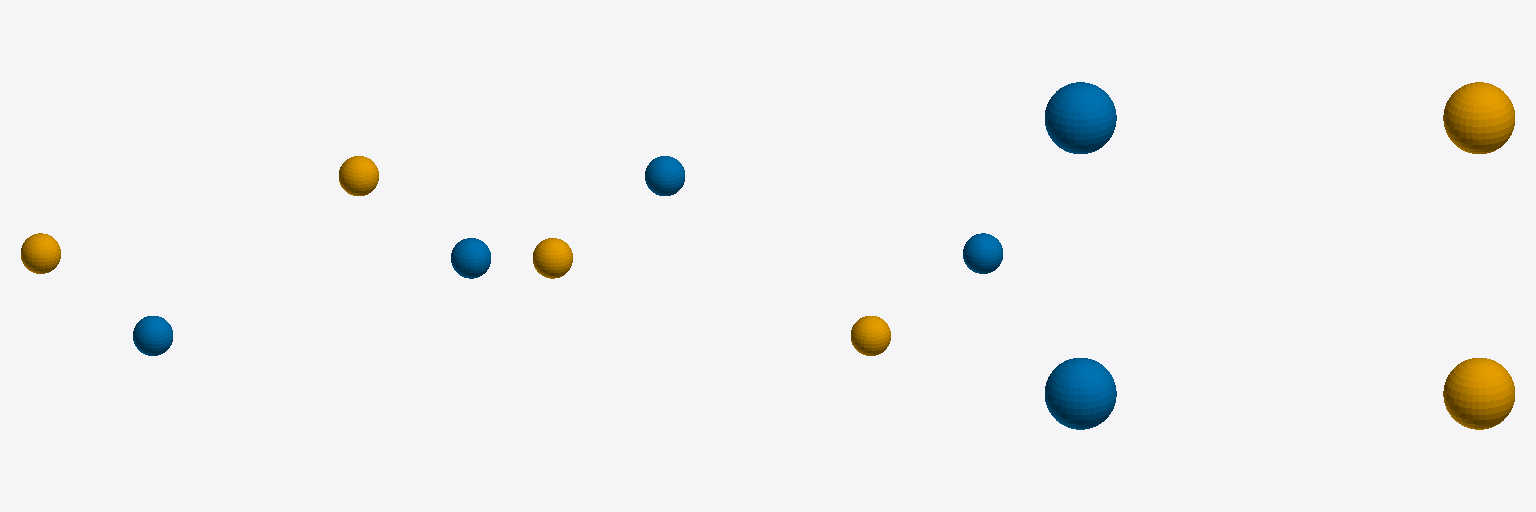
The robot description file, URDF, robot "Hound_description":
<?xml version="1.0" ?>
<!-- =================================================================================== -->
<!-- |    This document was autogenerated by xacro from robot.xacro                    | -->
<!-- |    EDITING THIS FILE BY HAND IS NOT RECOMMENDED                                 | -->
<!-- =================================================================================== -->
<robot name="Hound_description" xmlns:xacro="http://www.ros.org/wiki/xacro">
  <material name="black">
    <color rgba="0.0 0.0 0.0 1.0"/>
  </material>
  <material name="blue">
    <color rgba="0.0 0.0 0.8 1.0"/>
  </material>
  <material name="green">
    <color rgba="0.0 0.8 0.0 1.0"/>
  </material>
  <material name="grey">
    <color rgba="0.2 0.2 0.2 1.0"/>
  </material>
  <material name="silver">
    <color rgba="0.913725490196 0.913725490196 0.847058823529 1.0"/>
  </material>
  <material name="orange">
    <color rgba="1.0 0.423529411765 0.0392156862745 1.0"/>
  </material>
  <material name="brown">
    <color rgba="0.870588235294 0.811764705882 0.764705882353 1.0"/>
  </material>
  <material name="red">
    <color rgba="0.8 0.0 0.0 1.0"/>
  </material>
  <material name="white">
    <color rgba="1.0 1.0 1.0 1.0"/>
  </material>

  <link name="trunk">
    <visual>
      <origin rpy="0 0 0" xyz="0 0 0"/>
      <geometry>
        <mesh filename="base__.dae" scale="1 1 1"/>
      </geometry>
      <material name="silver"/>
    </visual>
    <collision>
      <origin rpy="0 0 0" xyz="0 0 0"/>
      <geometry>
	<!--<box size="0.562 0.335 0.14"/>-->
        <box size="0.562 0.185 0.08"/>
      </geometry>
    </collision>
    <inertial>
      <origin rpy="0 0 0" xyz="0.000717 0.003624 -0.005225"/>
      <mass value="18.75"/>
      <inertia ixx="0.215345" ixy="0.000728" ixz="0.001358" iyy="0.833672" iyz="0.000129" izz="0.984279"/>
    </inertial>
  </link>


  <joint name="RR_roll_joint" type="revolute">
    <origin rpy="0 0 0" xyz="-0.349 -0.100 0.000"/>
    <parent link="trunk"/>
    <child link="RR_shoulder"/>
    <axis xyz="1 0 0"/>
    <!--dynamics rotor_inertia="0.01398664" damping="0" friction="0"/-->
    <limit effort="200" lower="-1.48352986419518" upper="1.48352986419518" velocity="21.29"/>
  </joint>
  <link name="RR_shoulder">
    <visual>
      <origin rpy="0 0 0" xyz="0 0 0"/>
      <geometry>
        <mesh filename="shoulder_mirror__.dae" scale="1 1 1"/>
      </geometry>
      <material name="grey"/>
    </visual>
    <collision>
      <origin rpy="1.57079632679 0 0" xyz="0 -0.0125 0"/>
      <geometry>
        <cylinder length="0.133" radius="0.0605"/>
      </geometry>
    </collision>
    <inertial>
      <origin rpy="0 0 0" xyz="-0.00426027 -0.01325422 0.00000918"/>
      <mass value="4.2947"/>
      <inertia ixx="0.00932019" ixy="-0.00003601" ixz="-0.00000533" iyy="0.00773259" iyz="-0.00001700" izz="0.01043512"/>
    </inertial>
  </link>
  <joint name="RR_hip_joint" type="revolute">
    <origin rpy="0 0 0" xyz="0 -0.1135 0"/>
    <parent link="RR_shoulder"/>
    <child link="RR_thigh"/>
    <axis xyz="0 1 0"/>
    <!--dynamics rotor_inertia="0.05581304" damping="0" friction="0"/-->
    <limit effort="200" lower="-6.28318530718" upper="6.28318530718" velocity="21.29"/>
  </joint>
  <link name="RR_thigh">
    <visual>
      <origin rpy="0 0 0" xyz="0 0 0"/>
      <geometry>
        <mesh filename="thigh_mirror__.dae" scale="1 1 1"/>
      </geometry>
      <material name="grey"/>
    </visual>
    <collision>
      <origin rpy="0 0 0" xyz="0 0 -0.16395"/>
      <geometry>
        <box size="0.078 0.069 0.34"/>
      </geometry>
    </collision>
    <inertial>
      <origin rpy="0 0 0" xyz="0.01353461 0.01879181 -0.09638993"/>
      <mass value="1.6351"/>
      <inertia ixx="0.02365733" ixy="-0.00036775" ixz="-0.00293293" iyy="0.02323490" iyz="0.00261899" izz="0.00318143"/>
    </inertial>
  </link>
  <joint name="RR_knee_joint" type="revolute">
    <origin rpy="0 0 0" xyz="0 0 -0.3279"/>
    <parent link="RR_thigh"/>
    <child link="RR_calf"/>
    <axis xyz="0 1 0"/>
    <!--dynamics rotor_inertia="0.0561" damping="0" friction="0"/-->
    <limit effort="400" lower="-2.7925268" upper="2.7925268" velocity="9.7"/>
  </joint>
  <link name="RR_calf">
    <visual>
      <origin rpy="0 0 0" xyz="0 0 0"/>
      <geometry>
        <mesh filename="calf__.dae" scale="1 1 1"/>
      </geometry>
      <material name="silver"/>
    </visual>
    <collision>
      <origin rpy="0 0 0" xyz="0 0 -0.175"/>
      <geometry>
        <box size="0.032 0.032 0.35"/>
      </geometry>
    </collision>
    <inertial>
      <origin rpy="0 0 0" xyz="0.00000000 -0.00007139 -0.12613433"/>
      <mass value="0.7377"/>
      <inertia ixx="0.01354125" ixy="-0.00000000" ixz="-0.00000058" iyy="0.01354008" iyz="-0.00000573" izz="0.00042390"/>
    </inertial>
  </link>
  <joint name="RR_foot_fixed" type="fixed">
    <origin rpy="0 0 0" xyz="0 0 -0.35"/>
    <parent link="RR_calf"/>
    <child link="RR_foot"/>
  </joint>
  <link name="RR_foot">
    <visual>
      <origin rpy="0 0 0" xyz="0 0 0"/>
      <geometry>
        <sphere radius="0.03875"/>
      </geometry>
    </visual>
    <collision>
      <origin rpy="0 0 0" xyz="0 0 0"/>
      <geometry>
        <sphere radius="0.000001"/>
      </geometry>
    </collision>
  </link>

	
  <joint name="RL_roll_joint" type="revolute">
    <origin rpy="0 0 0" xyz="-0.349 0.100 0.000"/>
    <parent link="trunk"/>
    <child link="RL_shoulder"/>
    <axis xyz="1 0 0"/>
    <!--dynamics rotor_inertia="0.01398664" damping="0" friction="0"/-->
    <limit effort="200" lower="-1.48352986419518" upper="1.48352986419518" velocity="21.29"/>
  </joint>
  <link name="RL_shoulder">
    <visual>
      <origin rpy="0 0 0" xyz="0 0 0"/>
      <geometry>
        <mesh filename="shoulder__.dae" scale="1 1 1"/>
      </geometry>
      <material name="grey"/>
    </visual>
    <collision>
      <origin rpy="1.57079632679 0 0" xyz="0 0.0125 0"/>
      <geometry>
        <cylinder length="0.133" radius="0.0605"/>
      </geometry>
    </collision>
    <inertial>
      <origin rpy="0 0 0" xyz="-0.00426027 0.01325422 0.00000918"/>
      <mass value="4.2947"/>
      <inertia ixx="0.00932019" ixy="0.00003601" ixz="-0.00000533" iyy="0.00773259" iyz="0.00001700" izz="0.01043512"/>
    </inertial>
  </link>
  <joint name="RL_hip_joint" type="revolute">
    <origin rpy="0 0 0" xyz="0 0.1135 0"/>
    <parent link="RL_shoulder"/>
    <child link="RL_thigh"/>
    <axis xyz="0 1 0"/>
    <!--dynamics rotor_inertia="0.05581304" damping="0" friction="0"/-->
    <limit effort="200" lower="-6.28318530718" upper="6.28318530718" velocity="21.29"/>
  </joint>
  <link name="RL_thigh">
    <visual>
      <origin rpy="0 0 0" xyz="0 0 0"/>
      <geometry>
        <mesh filename="thigh__.dae" scale="1 1 1"/>
      </geometry>
      <material name="grey"/>
    </visual>
    <collision>
      <origin rpy="0 0 0" xyz="0 0 -0.16395"/>
      <geometry>
        <box size="0.078 0.069 0.34"/>
      </geometry>
    </collision>
    <inertial>
      <origin rpy="0 0 0" xyz="0.01353461 -0.01879181 -0.09638993"/>
      <mass value="1.6351"/>
      <inertia ixx="0.02365733" ixy="0.00036775" ixz="-0.00293293" iyy="0.02323490" iyz="-0.00261899" izz="0.00318143"/>
    </inertial>
  </link>
  <joint name="RL_knee_joint" type="revolute">
    <origin rpy="0 0 0" xyz="0 0 -0.3279"/>
    <parent link="RL_thigh"/>
    <child link="RL_calf"/>
    <axis xyz="0 1 0"/>
    <!--dynamics rotor_inertia="0.0561" damping="0" friction="0"/-->
    <limit effort="400" lower="-2.7925268" upper="2.7925268" velocity="9.7"/>
  </joint>
  <link name="RL_calf">
    <visual>
      <origin rpy="0 0 0" xyz="0 0 0"/>
      <geometry>
        <mesh filename="calf__.dae" scale="1 1 1"/>
      </geometry>
      <material name="silver"/>
    </visual>
    <collision>
      <origin rpy="0 0 0" xyz="0 0 -0.175"/>
      <geometry>
        <box size="0.032 0.032 0.35"/>
      </geometry>
    </collision>
    <inertial>
      <origin rpy="0 0 0" xyz="0.00000000 0.00007139 -0.12613433"/>
      <mass value="0.7377"/>
      <inertia ixx="0.01354125" ixy="0.00000000" ixz="-0.00000058" iyy="0.01354008" iyz="0.00000573" izz="0.00042390"/>
    </inertial>
  </link>
  <joint name="RL_foot_fixed" type="fixed">
    <origin rpy="0 0 0" xyz="0 0 -0.35"/>
    <parent link="RL_calf"/>
    <child link="RL_foot"/>
  </joint>
  <link name="RL_foot">
    <visual>
      <origin rpy="0 0 0" xyz="0 0 0"/>
      <geometry>
        <sphere radius="0.03875"/>
      </geometry>
    </visual>
    <collision>
      <origin rpy="0 0 0" xyz="0 0 0"/>
      <geometry>
        <sphere radius="0.000001"/>
      </geometry>
    </collision>
  </link>


  <joint name="FR_roll_joint" type="revolute">
    <origin rpy="0 0 0" xyz="0.349 -0.100 0.000"/>
    <parent link="trunk"/>
    <child link="FR_shoulder"/>
    <axis xyz="1 0 0"/>
    <!--dynamics rotor_inertia="0.01398664" damping="0" friction="0"/-->
    <limit effort="200" lower="-1.48352986419518" upper="1.48352986419518" velocity="21.29"/>
  </joint>
  <link name="FR_shoulder">
    <visual>
      <origin rpy="0 0 0" xyz="0 0 0"/>
      <geometry>
        <mesh filename="shoulder_mirror__.dae" scale="1 1 1"/>
      </geometry>
      <material name="grey"/>
    </visual>
    <collision>
      <origin rpy="1.57079632679 0 0" xyz="0 -0.0125 0"/>
      <geometry>
        <cylinder length="0.133" radius="0.0605"/>
      </geometry>
    </collision>
    <inertial>
      <origin rpy="0 0 0" xyz="-0.00426027 -0.01325422 0.00000918"/>
      <mass value="4.2947"/>
      <inertia ixx="0.00932019" ixy="-0.00003601" ixz="-0.00000533" iyy="0.00773259" iyz="-0.00001700" izz="0.01043512"/>
    </inertial>
  </link>
  <joint name="FR_hip_joint" type="revolute">
    <origin rpy="0 0 0" xyz="0 -0.1135 0"/>
    <parent link="FR_shoulder"/>
    <child link="FR_thigh"/>
    <axis xyz="0 1 0"/>
    <!--dynamics rotor_inertia="0.05581304" damping="0" friction="0"/-->
    <limit effort="200" lower="-6.28318530718" upper="6.28318530718" velocity="21.29"/>
  </joint>
  <link name="FR_thigh">
    <visual>
      <origin rpy="0 0 0" xyz="0 0 0"/>
      <geometry>
        <mesh filename="thigh_mirror__.dae" scale="1 1 1"/>
      </geometry>
      <material name="grey"/>
    </visual>
    <collision>
      <origin rpy="0 0 0" xyz="0 0 -0.16395"/>
      <geometry>
        <box size="0.078 0.069 0.34"/>
      </geometry>
    </collision>
    <inertial>
      <origin rpy="0 0 0" xyz="0.01353461 0.01879181 -0.09638993"/>
      <mass value="1.6351"/>
      <inertia ixx="0.02365733" ixy="-0.00036775" ixz="-0.00293293" iyy="0.02323490" iyz="0.00261899" izz="0.00318143"/>
    </inertial>
  </link>
  <joint name="FR_knee_joint" type="revolute">
    <origin rpy="0 0 0" xyz="0 0 -0.3279"/>
    <parent link="FR_thigh"/>
    <child link="FR_calf"/>
    <axis xyz="0 1 0"/>
    <!--dynamics rotor_inertia="0.0561" damping="0" friction="0"/-->
    <limit effort="400" lower="-2.7925268" upper="2.7925268" velocity="9.7"/>
  </joint>
  <link name="FR_calf">
    <visual>
      <origin rpy="0 0 0" xyz="0 0 0"/>
      <geometry>
        <mesh filename="calf__.dae" scale="1 1 1"/>
      </geometry>
      <material name="silver"/>
    </visual>
    <collision>
      <origin rpy="0 0 0" xyz="0 0 -0.175"/>
      <geometry>
        <box size="0.032 0.032 0.35"/>
      </geometry>
    </collision>
    <inertial>
      <origin rpy="0 0 0" xyz="0.00000000 -0.00007139 -0.12613433"/>
      <mass value="0.7377"/>
      <inertia ixx="0.01354125" ixy="-0.00000000" ixz="-0.00000058" iyy="0.01354008" iyz="-0.00000573" izz="0.00042390"/>
    </inertial>
  </link>
  <joint name="FR_foot_fixed" type="fixed">
    <origin rpy="0 0 0" xyz="0 0 -0.35"/>
    <parent link="FR_calf"/>
    <child link="FR_foot"/>
  </joint>
  <link name="FR_foot">
    <visual>
      <origin rpy="0 0 0" xyz="0 0 0"/>
      <geometry>
        <sphere radius="0.03875"/>
      </geometry>
    </visual>
    <collision>
      <origin rpy="0 0 0" xyz="0 0 0"/>
      <geometry>
        <sphere radius="0.000001"/>
      </geometry>
    </collision>
  </link>


  <joint name="FL_roll_joint" type="revolute">
    <origin rpy="0 0 0" xyz="0.349 0.100 0.000"/>
    <parent link="trunk"/>
    <child link="FL_shoulder"/>
    <axis xyz="1 0 0"/>
    <!--dynamics rotor_inertia="0.01398664" damping="0" friction="0"/-->
    <limit effort="200" lower="-1.48352986419518" upper="1.48352986419518" velocity="21.29"/>
  </joint>
  <link name="FL_shoulder">
    <visual>
      <origin rpy="0 0 0" xyz="0 0 0"/>
      <geometry>
        <mesh filename="shoulder__.dae" scale="1 1 1"/>
      </geometry>
      <material name="grey"/>
    </visual>
    <collision>
      <origin rpy="1.57079632679 0 0" xyz="0 0.0125 0"/>
      <geometry>
        <cylinder length="0.133" radius="0.0605"/>
      </geometry>
    </collision>
    <inertial>
      <origin rpy="0 0 0" xyz="-0.00426027 0.01325422 0.00000918"/>
      <mass value="4.2947"/>
      <inertia ixx="0.00932019" ixy="0.00003601" ixz="-0.00000533" iyy="0.00773259" iyz="0.00001700" izz="0.01043512"/>
    </inertial>
  </link>
  <joint name="FL_hip_joint" type="revolute">
    <origin rpy="0 0 0" xyz="0 0.1135 0"/>
    <parent link="FL_shoulder"/>
    <child link="FL_thigh"/>
    <axis xyz="0 1 0"/>
    <!--dynamics rotor_inertia="0.05581304" damping="0" friction="0"/-->
    <limit effort="200" lower="-6.28318530718" upper="6.28318530718" velocity="21.29"/>
  </joint>
  <link name="FL_thigh">
    <visual>
      <origin rpy="0 0 0" xyz="0 0 0"/>
      <geometry>
        <mesh filename="thigh__.dae" scale="1 1 1"/>
      </geometry>
      <material name="grey"/>
    </visual>
    <collision>
      <origin rpy="0 0 0" xyz="0 0 -0.16395"/>
      <geometry>
        <box size="0.078 0.069 0.34"/>
      </geometry>
    </collision>
    <inertial>
      <origin rpy="0 0 0" xyz="0.01353461 -0.01879181 -0.09638993"/>
      <mass value="1.6351"/>
      <inertia ixx="0.02365733" ixy="0.00036775" ixz="-0.00293293" iyy="0.02323490" iyz="-0.00261899" izz="0.00318143"/>
    </inertial>
  </link>
  <joint name="FL_knee_joint" type="revolute">
    <origin rpy="0 0 0" xyz="0 0 -0.3279"/>
    <parent link="FL_thigh"/>
    <child link="FL_calf"/>
    <axis xyz="0 1 0"/>
    <!--dynamics rotor_inertia="0.0561" damping="0" friction="0"/-->
    <limit effort="400" lower="-2.7925268" upper="2.7925268" velocity="9.7"/>
  </joint>
  <link name="FL_calf">
    <visual>
      <origin rpy="0 0 0" xyz="0 0 0"/>
      <geometry>
        <mesh filename="calf__.dae" scale="1 1 1"/>
      </geometry>
      <material name="silver"/>
    </visual>
    <collision>
      <origin rpy="0 0 0" xyz="0 0 -0.175"/>
      <geometry>
        <box size="0.032 0.032 0.35"/>
      </geometry>
    </collision>
    <inertial>
      <origin rpy="0 0 0" xyz="0.00000000 0.00007139 -0.12613433"/>
      <mass value="0.7377"/>
      <inertia ixx="0.01354125" ixy="0.00000000" ixz="-0.00000058" iyy="0.01354008" iyz="0.00000573" izz="0.00042390"/>
    </inertial>
  </link>
  <joint name="FL_foot_fixed" type="fixed">
    <origin rpy="0 0 0" xyz="0 0 -0.35"/>
    <parent link="FL_calf"/>
    <child link="FL_foot"/>
  </joint>
  <link name="FL_foot">
    <visual>
      <origin rpy="0 0 0" xyz="0 0 0"/>
      <geometry>
        <sphere radius="0.03875"/>
      </geometry>
    </visual>
    <collision>
      <origin rpy="0 0 0" xyz="0 0 0"/>
      <geometry>
        <sphere radius="0.000001"/>
      </geometry>
    </collision>
  </link>


</robot>


--- What the picture shows (computed from the rendered views, not written in the file) ---
The picture shows the robot from 3 angles, left to right: view 1: azimuth 30°, elevation 25°; view 2: azimuth 150°, elevation 25°; view 3: azimuth 270°, elevation 25°; orthographic projection.
Robot: Hound_description — 17 links, 16 joints (12 revolute, 4 fixed); root link trunk; default pose: all joints at 0.
Links seen in each view (by area): view 1: RL_foot, FR_foot, RR_foot, FL_foot; view 2: RR_foot, FL_foot, RL_foot, FR_foot; view 3: RR_foot, RL_foot, FR_foot, FL_foot.
Link boxes in pixels (bbox=[...]): RL_foot: bbox=[21, 233, 60, 273]; FR_foot: bbox=[451, 238, 490, 278]; RR_foot: bbox=[133, 316, 172, 355]; FL_foot: bbox=[339, 156, 378, 195]; RR_foot: bbox=[963, 233, 1002, 273]; FL_foot: bbox=[533, 238, 572, 278]; RL_foot: bbox=[851, 316, 890, 355]; FR_foot: bbox=[645, 156, 684, 195]; RR_foot: bbox=[1045, 82, 1116, 153]; RL_foot: bbox=[1443, 82, 1514, 153]; FR_foot: bbox=[1045, 358, 1116, 429]; FL_foot: bbox=[1443, 358, 1514, 429].
Size in the robot's own frame: 0.7755 by 0.5045 by 0.0775 metres.
Meshes: 6 distinct files referenced, 0 mesh visuals loaded (none loaded); not drawn: 13 (reference not matched to a file when rendering).